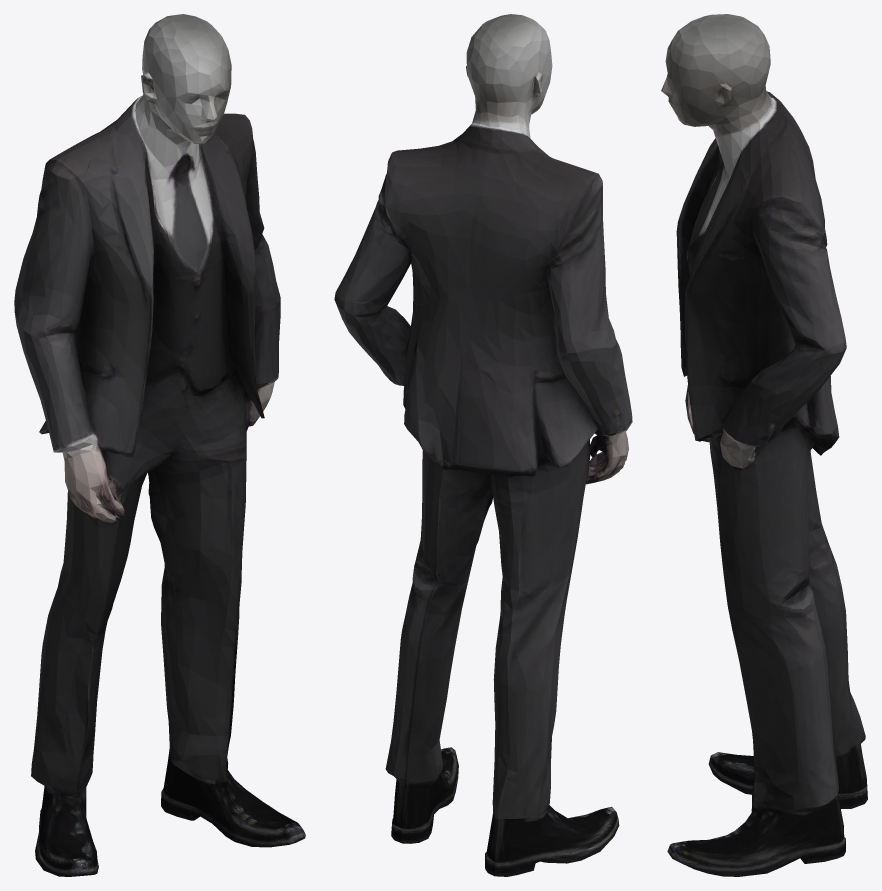
File: maniki.glb
3 views of the same model, side by side, from view 1: azimuth 30°, elevation 25°; view 2: azimuth 150°, elevation 25°; view 3: azimuth 270°, elevation 25° (orthographic). The views are drawn at different scales.
Visible parts, largest first — view 1: Mesh_0.022, Mesh_0.091, Mesh_0.088, Mesh_0.090, Mesh_0.012, Mesh_0.029, Mesh_0.026, Mesh_0.017, Mesh_0.037, Mesh_0.023, Mesh_0.006, Mesh_0.083 (+12 smaller); view 2: Mesh_0.005, Mesh_0.088, Mesh_0.015, Mesh_0.028, Mesh_0.014, Mesh_0.012, Mesh_0.040, Mesh_0.091, Mesh_0.023, Mesh_0.019, Mesh_0.101, Mesh_0.108 (+8 smaller); view 3: Mesh_0.026, Mesh_0.108, Mesh_0.004, Mesh_0.020, Mesh_0.014, Mesh_0.033, Mesh_0.005, Mesh_0.103, Mesh_0.027, Mesh_0.022, Mesh_0.061, Mesh_0.024 (+10 smaller).
Boxes of the visible parts, x1=… form: Mesh_0.022: x1=110, y1=135, x2=254, y2=677; Mesh_0.091: x1=148, y1=451, x2=235, y2=797; Mesh_0.088: x1=31, y1=491, x2=116, y2=798; Mesh_0.090: x1=77, y1=187, x2=151, y2=457; Mesh_0.012: x1=14, y1=159, x2=72, y2=452; Mesh_0.029: x1=64, y1=111, x2=154, y2=353; Mesh_0.026: x1=199, y1=114, x2=259, y2=373; Mesh_0.017: x1=39, y1=172, x2=111, y2=338; Mesh_0.037: x1=161, y1=736, x2=291, y2=847; Mesh_0.023: x1=135, y1=24, x2=194, y2=156; Mesh_0.006: x1=78, y1=472, x2=147, y2=874; Mesh_0.083: x1=217, y1=230, x2=264, y2=418; Mesh_0.005: x1=336, y1=124, x2=619, y2=476; Mesh_0.088: x1=497, y1=439, x2=590, y2=818; Mesh_0.015: x1=392, y1=463, x2=478, y2=828; Mesh_0.028: x1=512, y1=267, x2=598, y2=475; Mesh_0.014: x1=486, y1=474, x2=532, y2=862; Mesh_0.012: x1=570, y1=173, x2=632, y2=433; Mesh_0.040: x1=495, y1=811, x2=619, y2=876; Mesh_0.091: x1=407, y1=546, x2=476, y2=827; Mesh_0.023: x1=493, y1=25, x2=552, y2=138; Mesh_0.019: x1=353, y1=239, x2=411, y2=385; Mesh_0.101: x1=479, y1=112, x2=597, y2=207; Mesh_0.108: x1=385, y1=450, x2=437, y2=775; Mesh_0.026: x1=684, y1=109, x2=782, y2=388; Mesh_0.108: x1=744, y1=417, x2=837, y2=808; Mesh_0.004: x1=720, y1=457, x2=806, y2=825; Mesh_0.020: x1=723, y1=196, x2=831, y2=445; Mesh_0.014: x1=808, y1=451, x2=867, y2=792; Mesh_0.033: x1=672, y1=797, x2=843, y2=876; Mesh_0.005: x1=769, y1=102, x2=846, y2=436; Mesh_0.103: x1=681, y1=44, x2=759, y2=137; Mesh_0.027: x1=745, y1=342, x2=846, y2=446; Mesh_0.022: x1=687, y1=130, x2=725, y2=573; Mesh_0.061: x1=767, y1=289, x2=832, y2=434; Mesh_0.024: x1=678, y1=14, x2=757, y2=54.
Bounding box in the file's own units: 33.27 × 100 × 23.18.
Materials: 2 (1 with a texture image).
